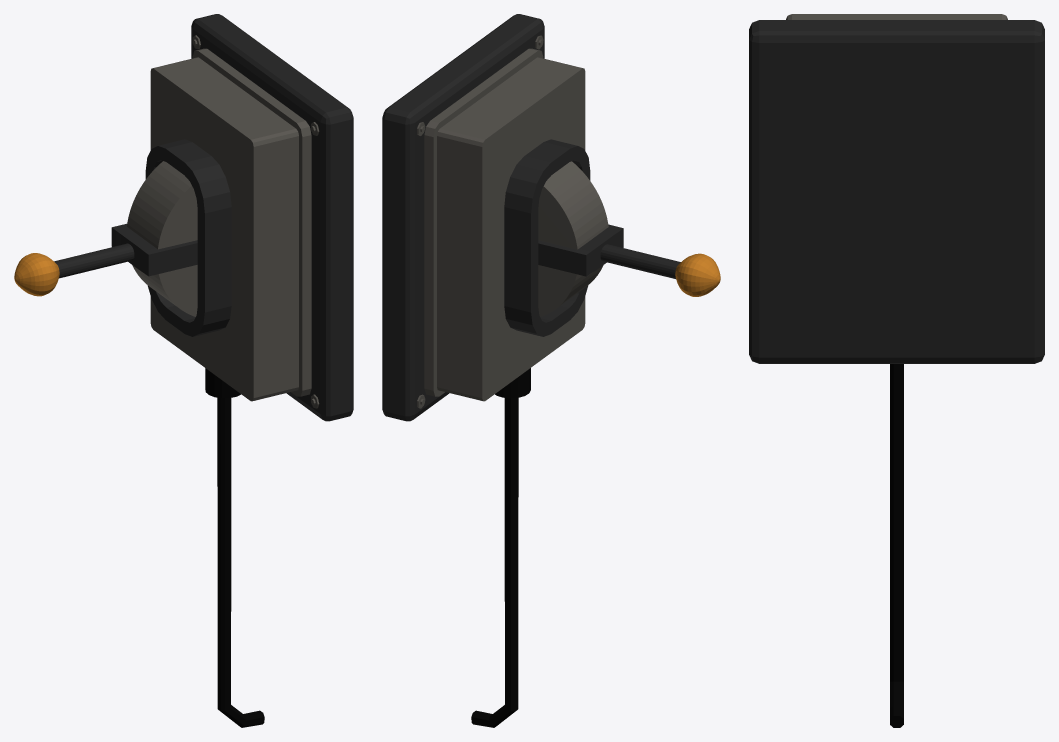
Rendered from terminal_04.fbx.
3 views of the same model, side by side, from view 1: azimuth 30°, elevation 25°; view 2: azimuth 150°, elevation 25°; view 3: azimuth 270°, elevation 25° (orthographic). The views are drawn at different scales.
Parts seen in each view (by area): view 1: terminal_04, terminal_04_arm; view 2: terminal_04, terminal_04_arm; view 3: terminal_04.
Part boxes in pixels (bbox=[...]): terminal_04: bbox=[145, 14, 353, 727]; terminal_04_arm: bbox=[14, 161, 197, 316]; terminal_04: bbox=[382, 14, 590, 727]; terminal_04_arm: bbox=[538, 161, 720, 316]; terminal_04: bbox=[749, 14, 1044, 727].
Bounding box in the file's own units: 0.4211 × 0.3675 × 0.971.
